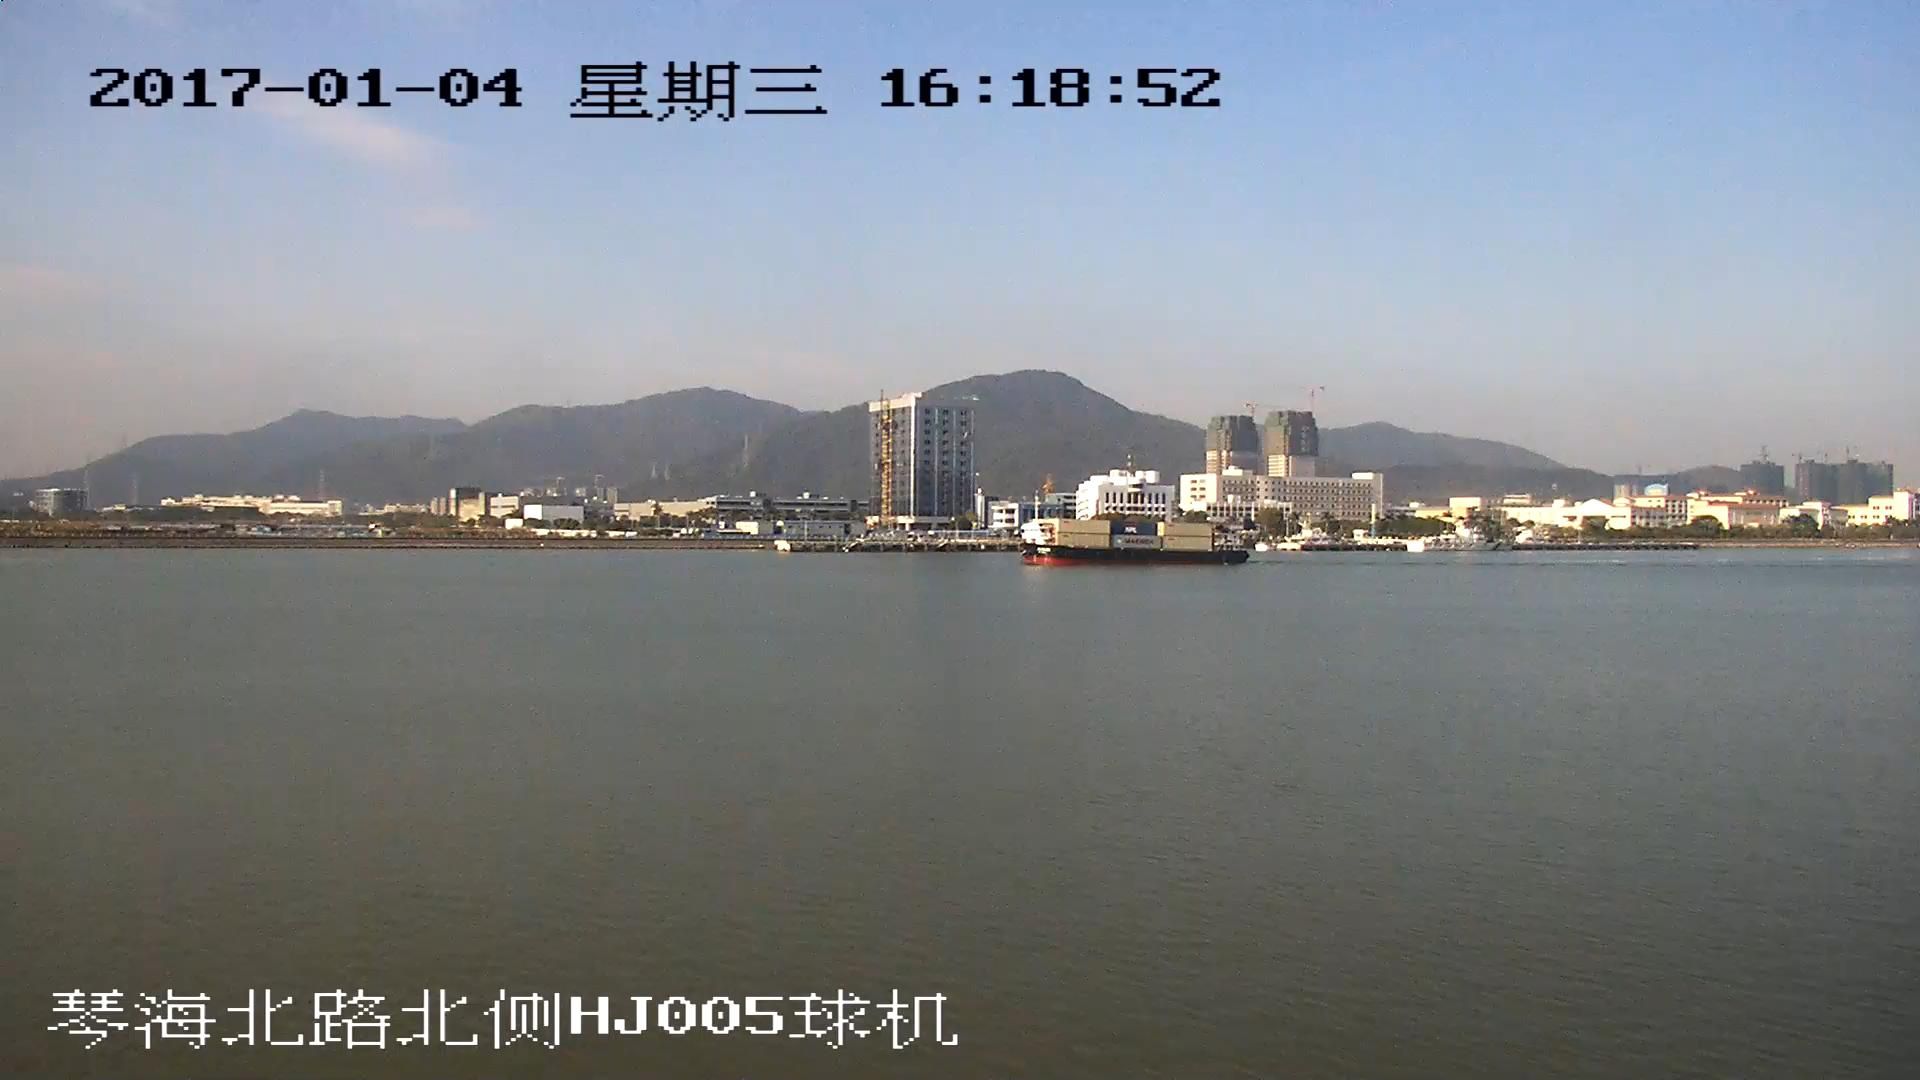container ship: (1021, 515, 1242, 566)
